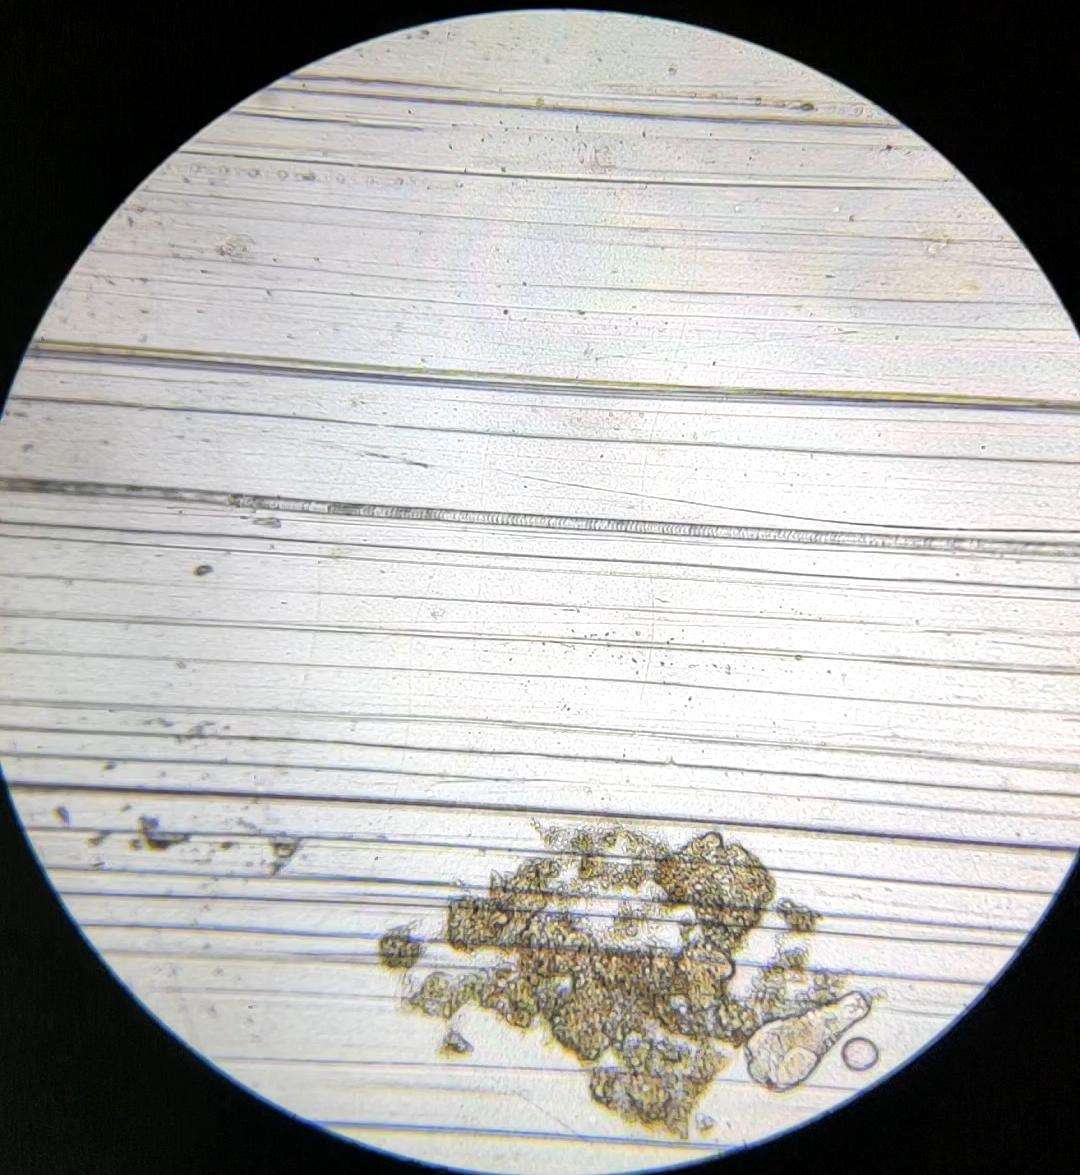Do: (745, 989, 873, 1094)
